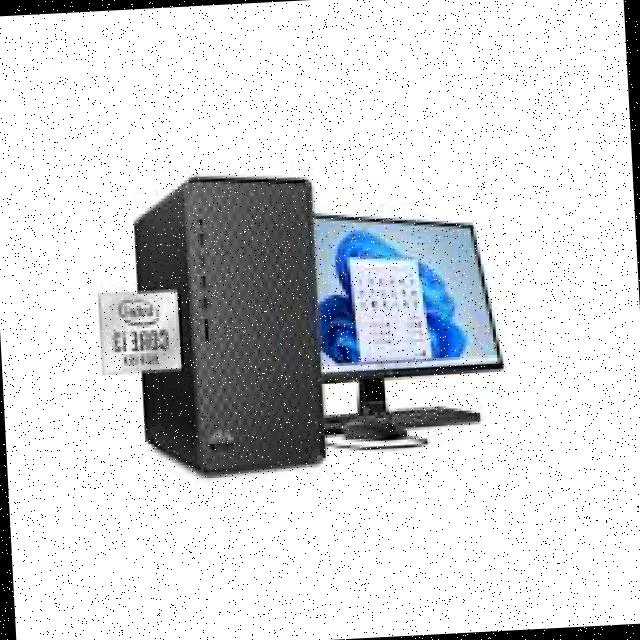Computer: (132, 163, 326, 482)
Monitor: (300, 206, 512, 394)
